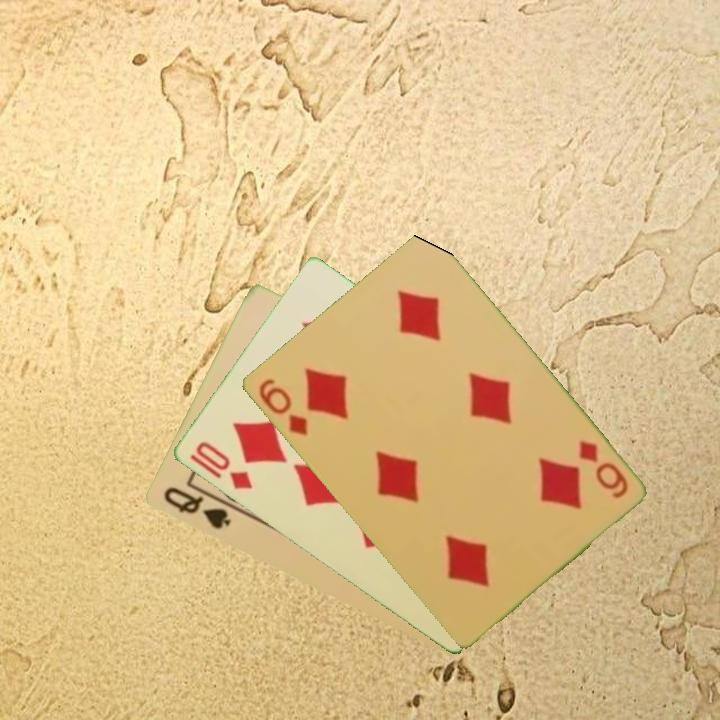10d: (191, 438, 255, 493)
6d: (574, 436, 631, 502), (254, 375, 311, 439)
Qs: (159, 483, 234, 532)
